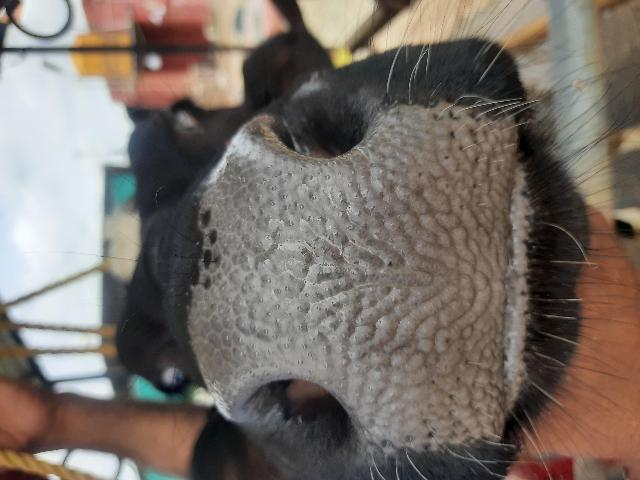Muzzle: (213, 168, 502, 376)
